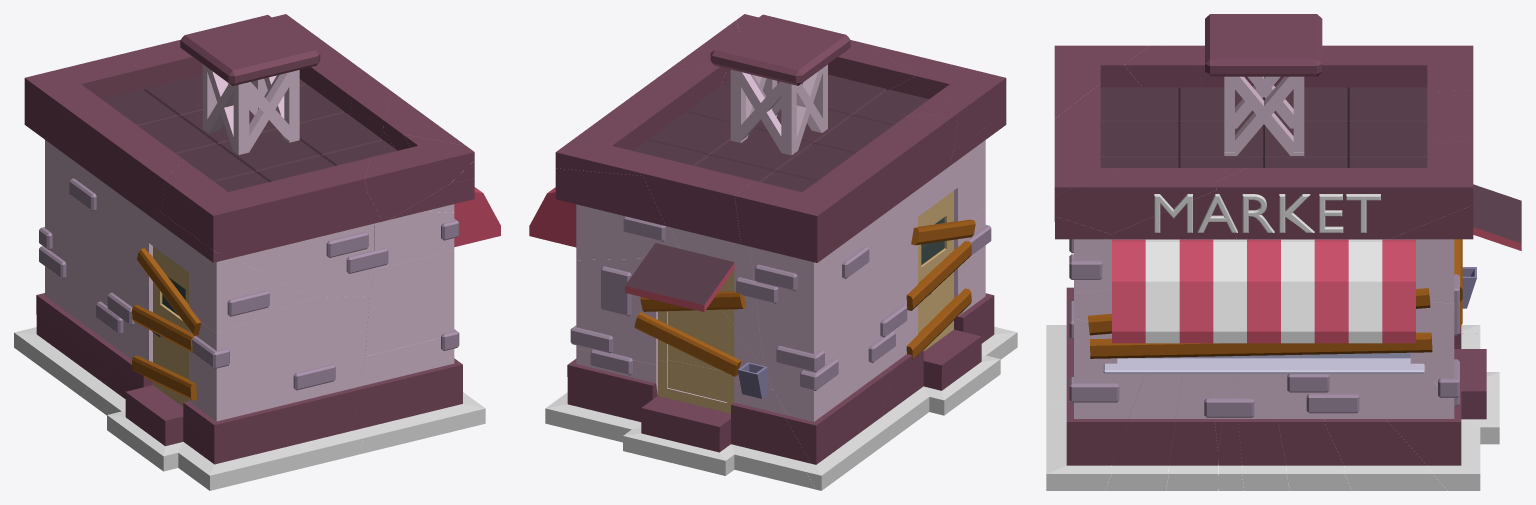
The model's file is SupermarketBase.fbx.
The picture shows the model from 3 angles, left to right: view 1: azimuth 30°, elevation 25°; view 2: azimuth 150°, elevation 25°; view 3: azimuth 270°, elevation 25°; orthographic projection. The views are drawn at different scales.
Parts seen in each view (by area): view 1: Market.002; view 2: Market.002; view 3: Market.002.
Part boxes in pixels (box(x1,y1,x2,y2)): Market.002: box(14, 14, 500, 490); Market.002: box(529, 14, 1017, 490); Market.002: box(1046, 14, 1521, 490).
Size of the model in its own units: 8.92 by 8.71 by 9.87.
